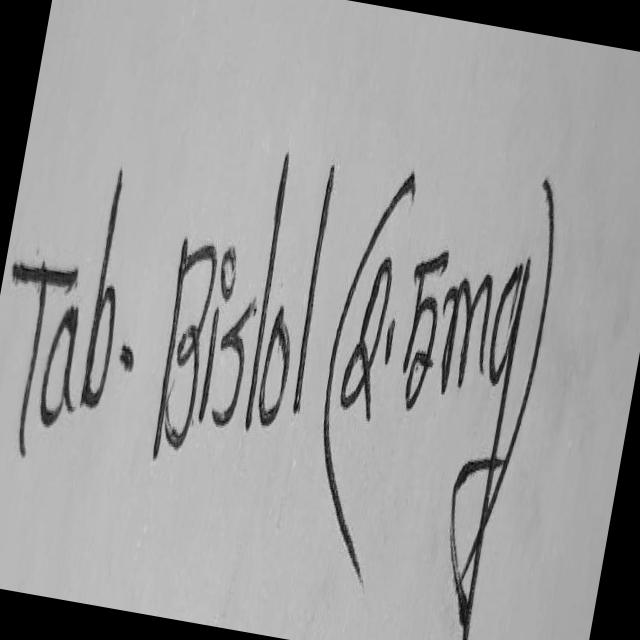2: (341, 254, 392, 417)
5: (404, 248, 449, 407)
B: (152, 237, 216, 455)
T: (11, 259, 78, 454)
a: (40, 305, 77, 423)
b: (80, 167, 121, 404)
g: (452, 254, 531, 640)
i: (198, 304, 219, 418), (221, 242, 236, 297)
l: (246, 149, 288, 426), (293, 162, 335, 410)
m: (442, 272, 493, 391)
o: (259, 303, 290, 422)
s: (213, 296, 255, 422)
